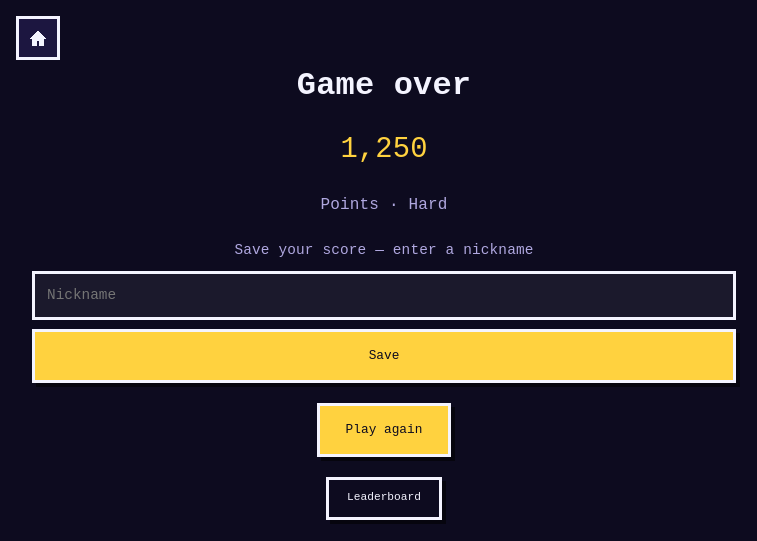
Test case: GameOverScreen › saves the score to the leaderboard from the inline form
This screenshot has width=757, height=541.
Type "Nova" into the field labelled "nickname".
click(384, 296); type("Nova")  # box 32,272 -> 736,320
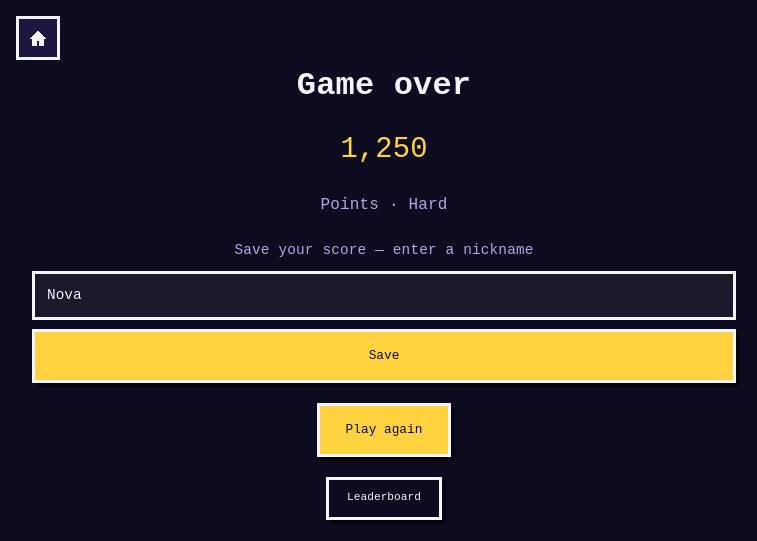
Click the button "Save".
click(384, 356)  # box 32,329 -> 736,383
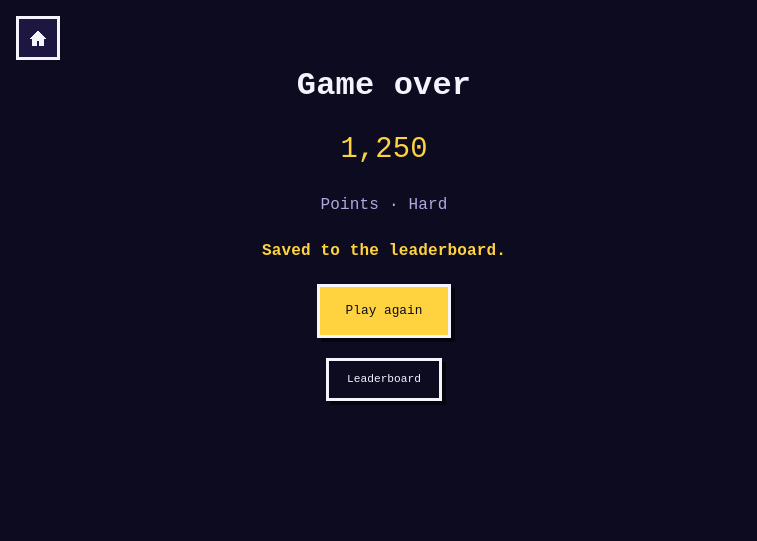
Expected: the text "Saved to the leaderboard." is shown, 262,239 -> 506,264
